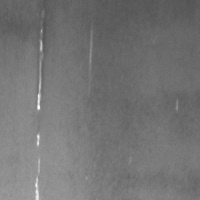scratches: (32, 23, 47, 113)
